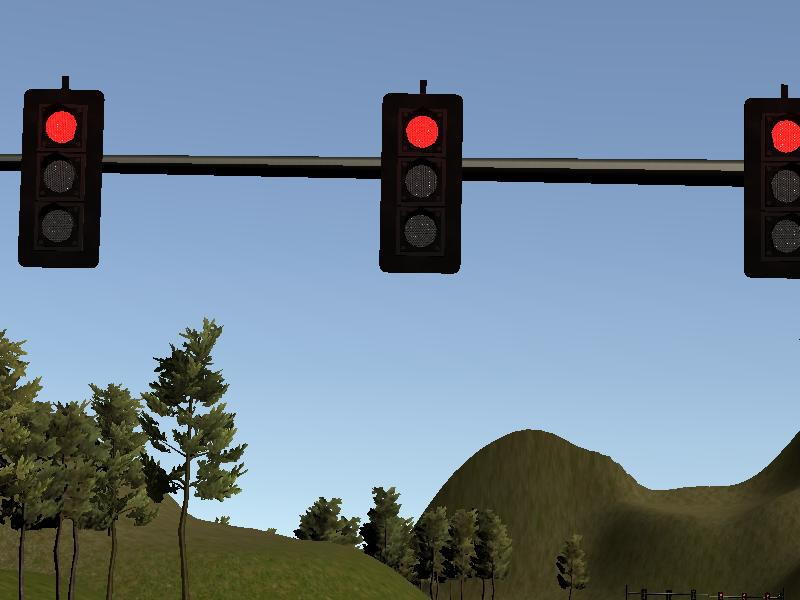red_light: (378, 91, 463, 275), (20, 92, 102, 269), (743, 99, 800, 277)
